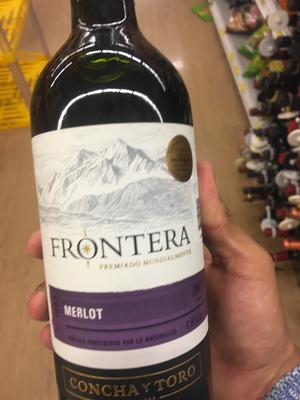frontera merlot: (29, 18, 218, 400)
